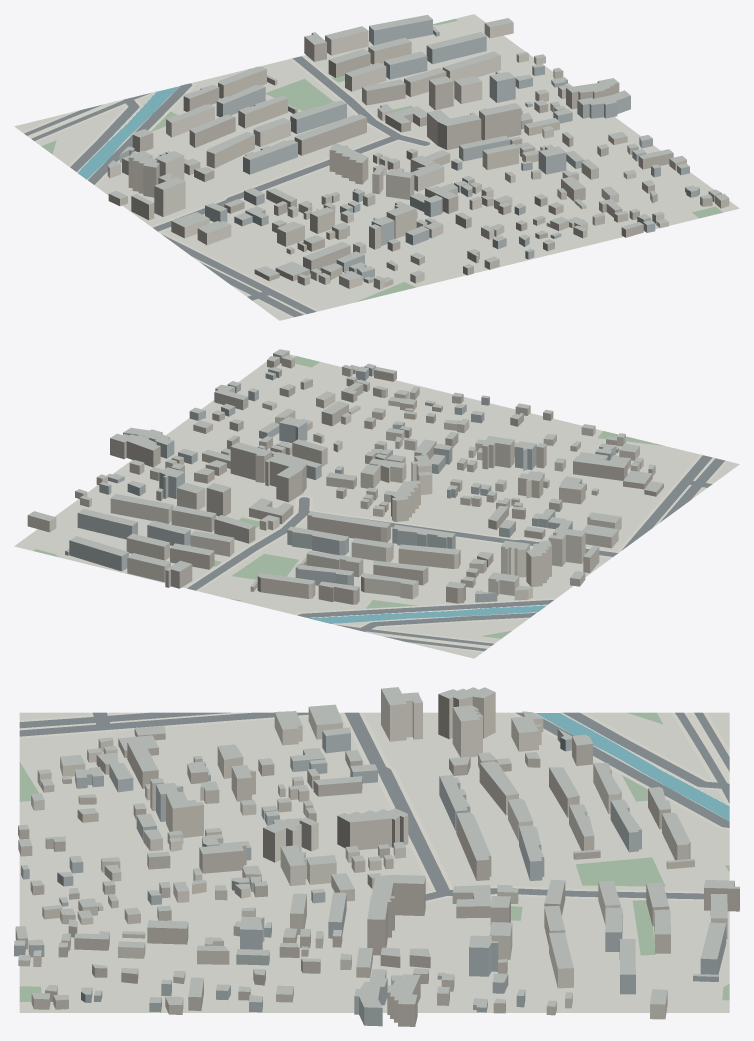
The picture shows the model from 3 angles, top to bottom: view 1: azimuth 30°, elevation 25°; view 2: azimuth 150°, elevation 25°; view 3: azimuth 270°, elevation 25°; orthographic projection. The views are drawn at different scales.
Parts seen in each view (by area): view 1: city; view 2: city; view 3: city.
Boxes of the visible parts, <box> form: city: <box>14,14,739,320</box>; city: <box>14,349,739,658</box>; city: <box>14,687,739,1026</box>.
Size of the model in its own units: 530 by 31.68 by 511.
